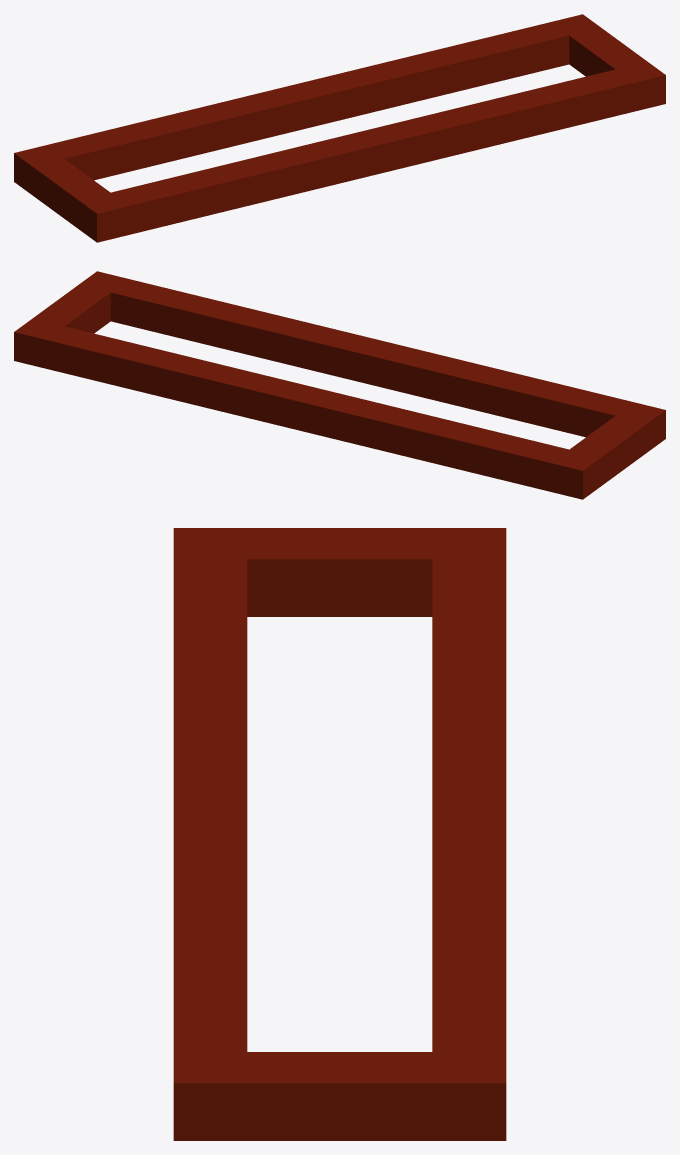
File: mapTest.fbx
3 renders of one model, top to bottom at view 1: azimuth 30°, elevation 25°; view 2: azimuth 150°, elevation 25°; view 3: azimuth 270°, elevation 25°, orthographic. The views are drawn at different scales.
Visible parts, largest first — view 1: Obstacle; view 2: Obstacle; view 3: Obstacle.
Part boxes in pixels (x1=…): Obstacle: x1=14, y1=14, x2=665, y2=242; Obstacle: x1=14, y1=271, x2=665, y2=499; Obstacle: x1=173, y1=528, x2=506, y2=1140.
Bounding box in the file's own units: 164303 × 7967 × 41595.
